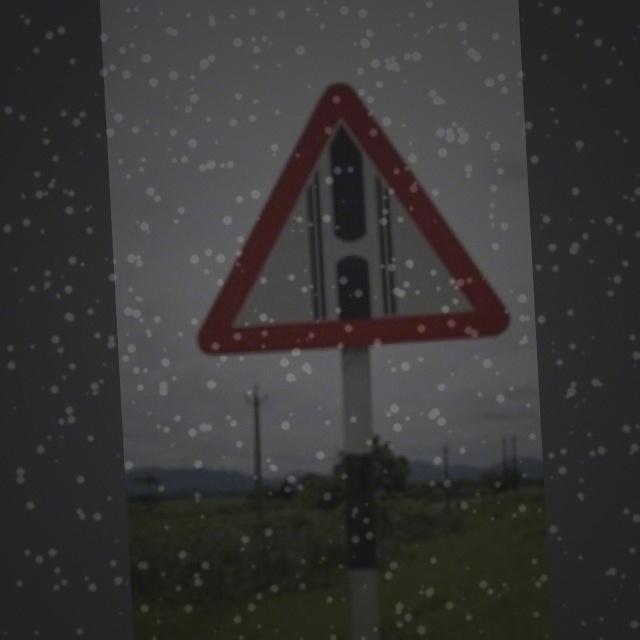Gap_in_Median: (184, 56, 509, 355)
